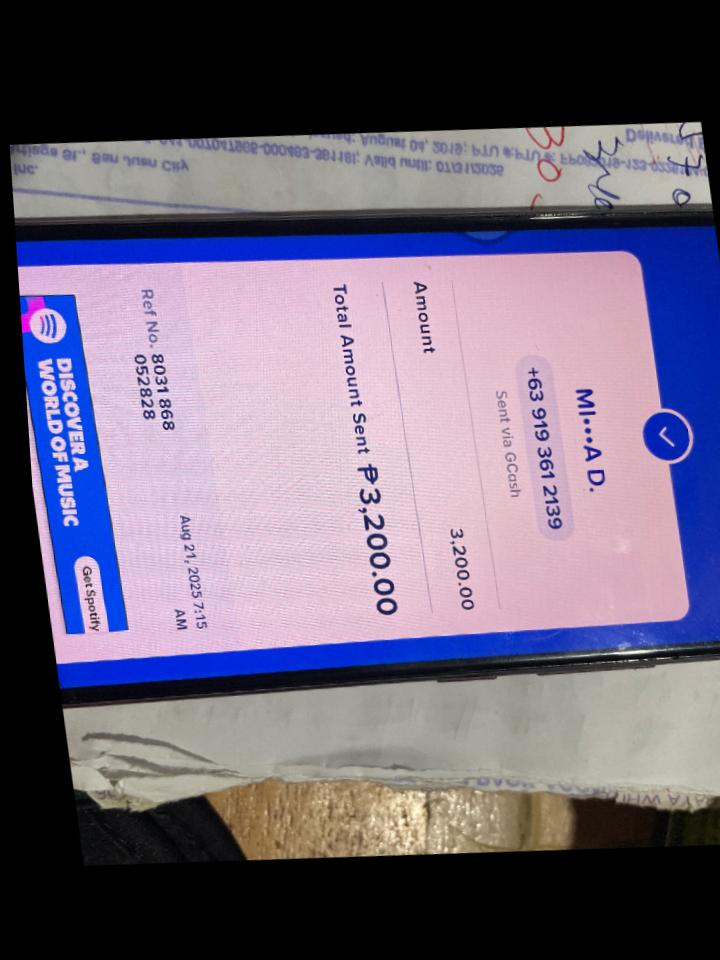Receipt: (16, 224, 720, 686)
